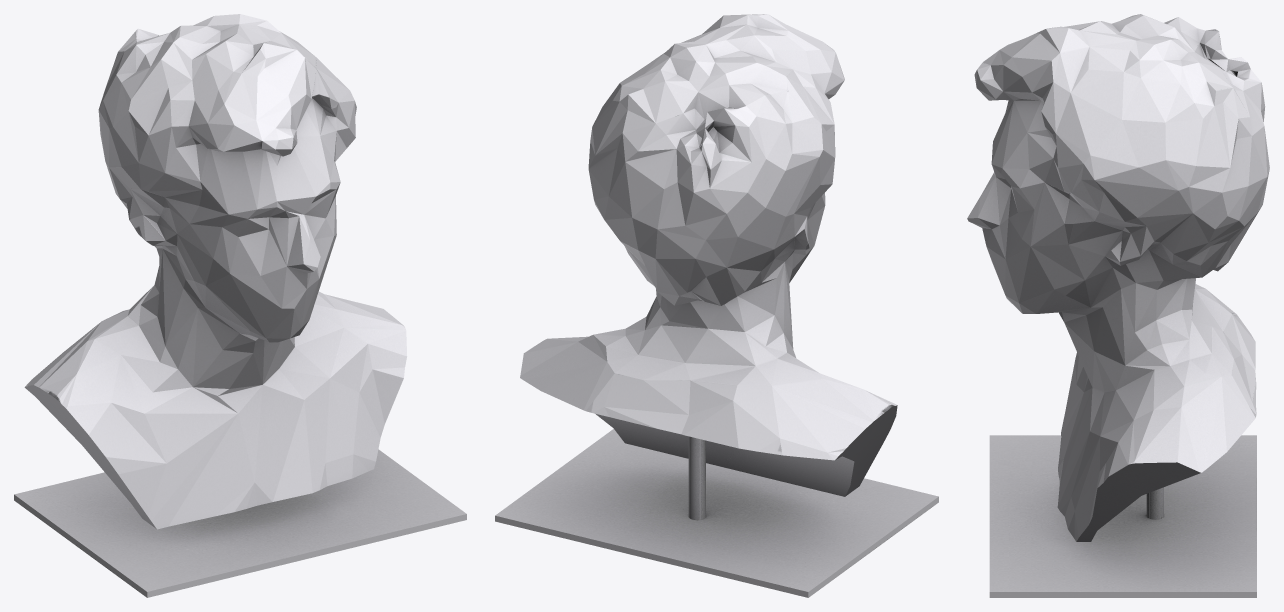
3 renders of one model, left to right at view 1: azimuth 30°, elevation 25°; view 2: azimuth 150°, elevation 25°; view 3: azimuth 270°, elevation 25°, orthographic. The views are drawn at different scales.
Visible parts, largest first — view 1: 6, Support004; view 2: 6, Support004; view 3: 6, Support004.
Part boxes in pixels (x1,y1,x2,y2): 6: (24,14,407,529); Support004: (14,449,466,597); 6: (520,14,897,496); Support004: (495,429,938,597); 6: (967,14,1269,541); Support004: (989,435,1256,597).
Bounding box in the file's own units: 14.21 × 18.81 × 10.55.
2 materials, 2 textured.
